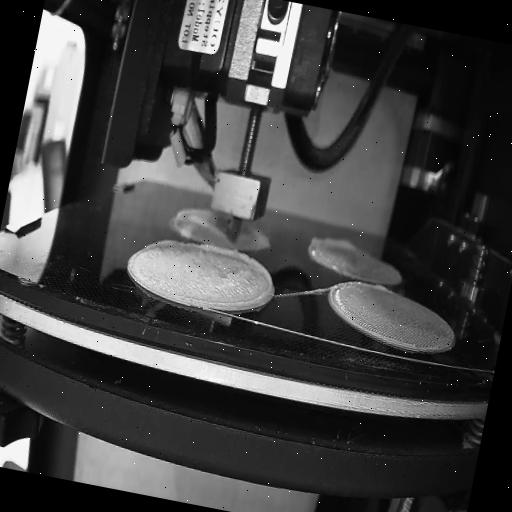over_extrusion: (186, 240, 280, 321), (306, 232, 360, 264), (142, 229, 179, 260), (368, 280, 394, 296)
